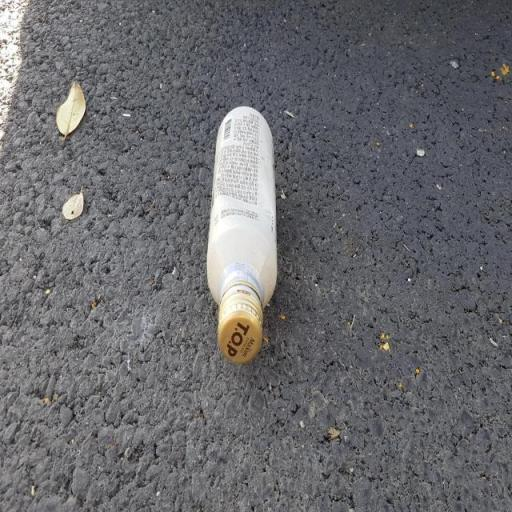metal: (192, 82, 298, 412)
